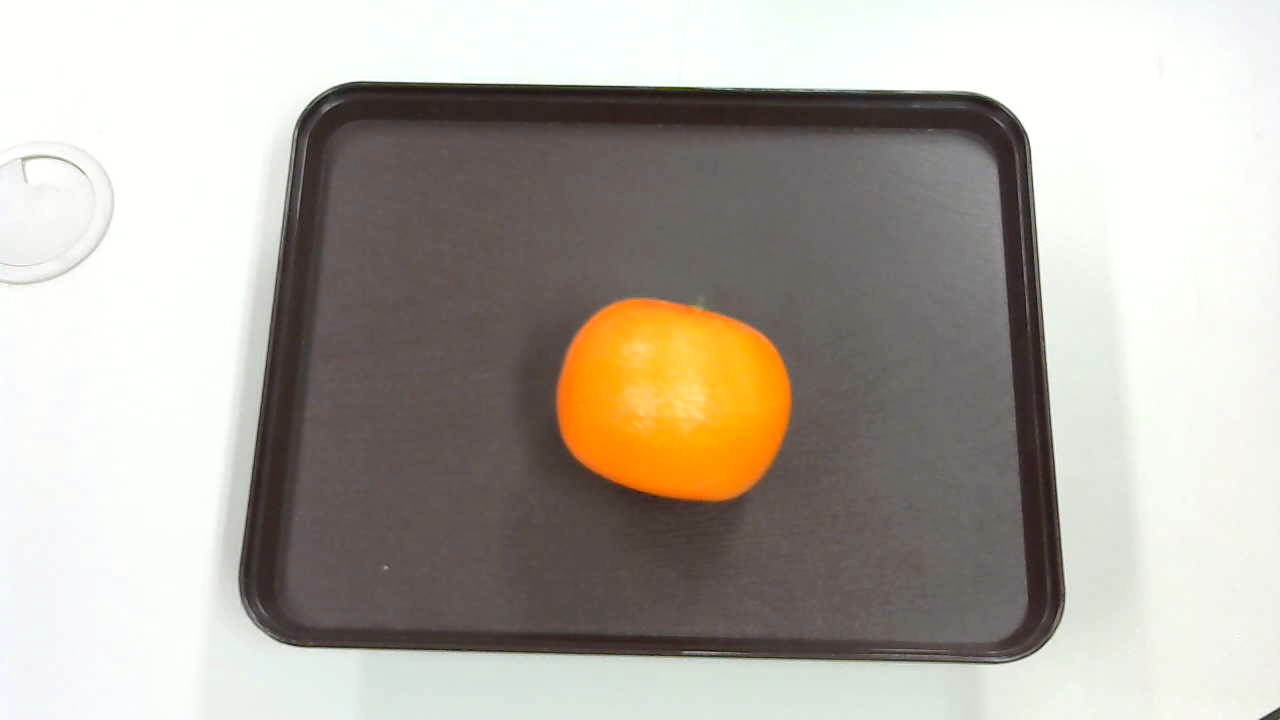orange: (540, 283, 801, 527)
